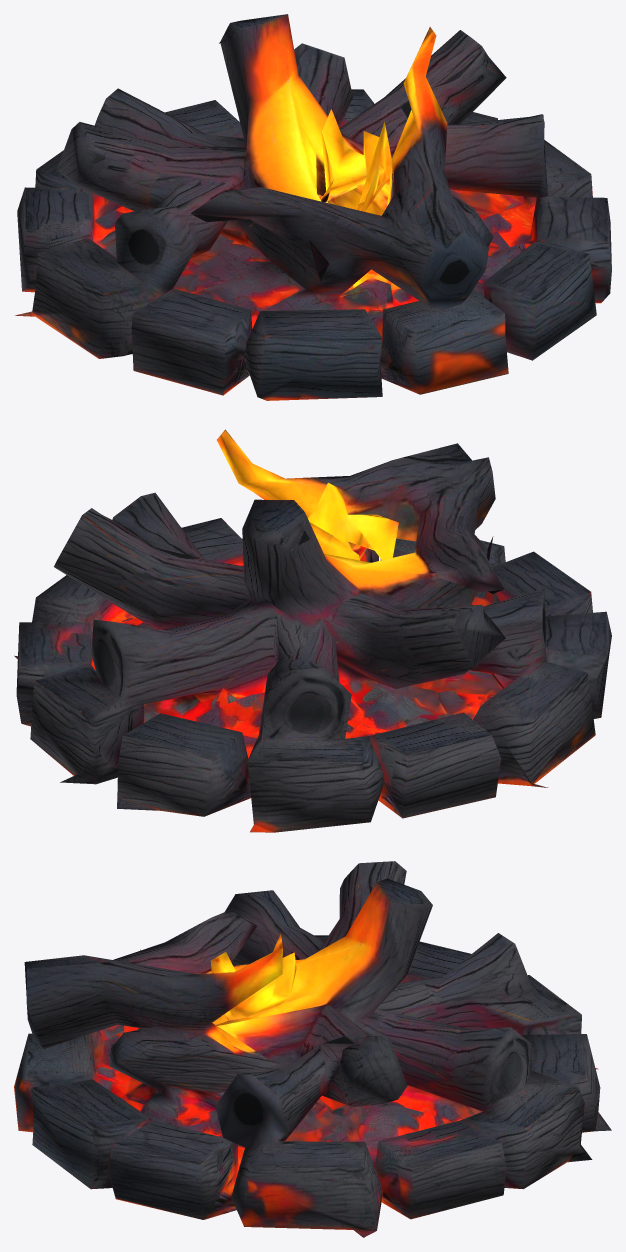
File: prop-campfire-glow.glb
3 views of the same model, one above another, from view 1: azimuth 30°, elevation 25°; view 2: azimuth 150°, elevation 25°; view 3: azimuth 270°, elevation 25° (orthographic). The views are drawn at different scales.
Bounding box in the file's own units: 2 × 0.8497 × 2.
Materials: 1 (1 with a texture image).
